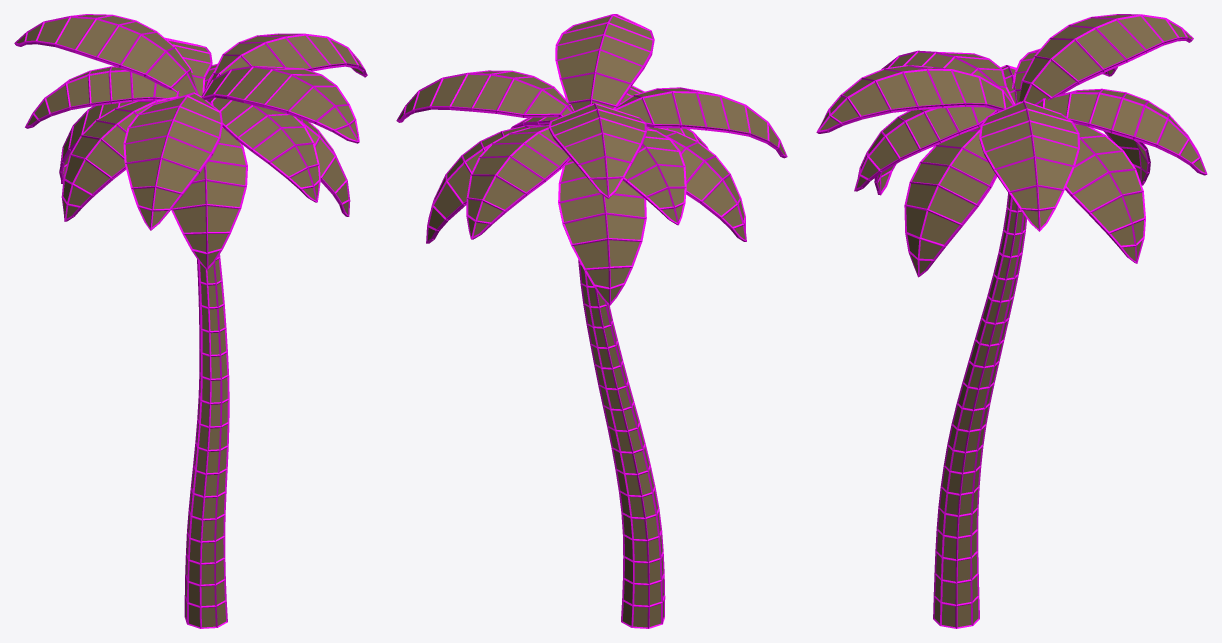
Rendered from Palm_fil_de_fer.fbx.
The picture shows the model from 3 angles, left to right: view 1: azimuth 30°, elevation 25°; view 2: azimuth 150°, elevation 25°; view 3: azimuth 270°, elevation 25°; orthographic projection. The views are drawn at different scales.
Parts seen in each view (by area): view 1: Palm-tree; view 2: Palm-tree; view 3: Palm-tree.
Part boxes in pixels (<box>): Palm-tree: <box>14,14,367,628</box>; Palm-tree: <box>396,14,787,628</box>; Palm-tree: <box>816,14,1207,628</box>.
Size of the model in its own units: 329 by 541 by 329.
